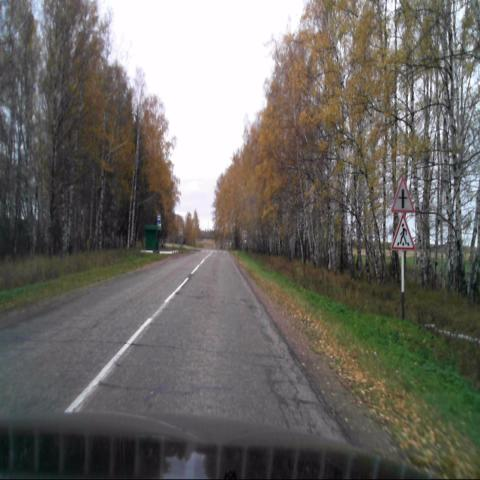2_3: (390, 177, 414, 213)
